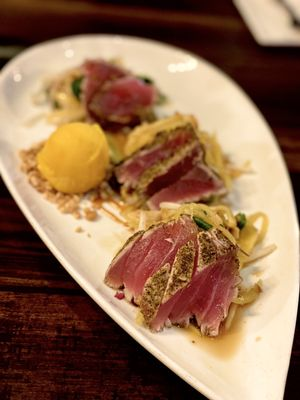curry: (1, 1, 300, 388)
